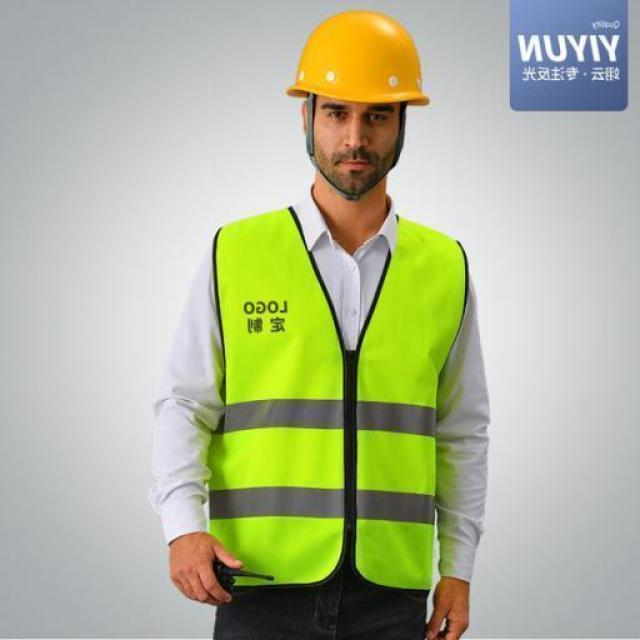helmet: (284, 12, 430, 112)
safety_vest: (206, 203, 462, 592)
